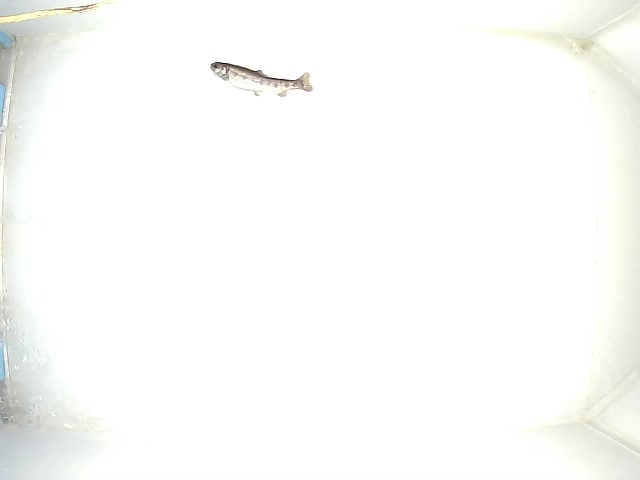fish: (209, 61, 314, 98)
